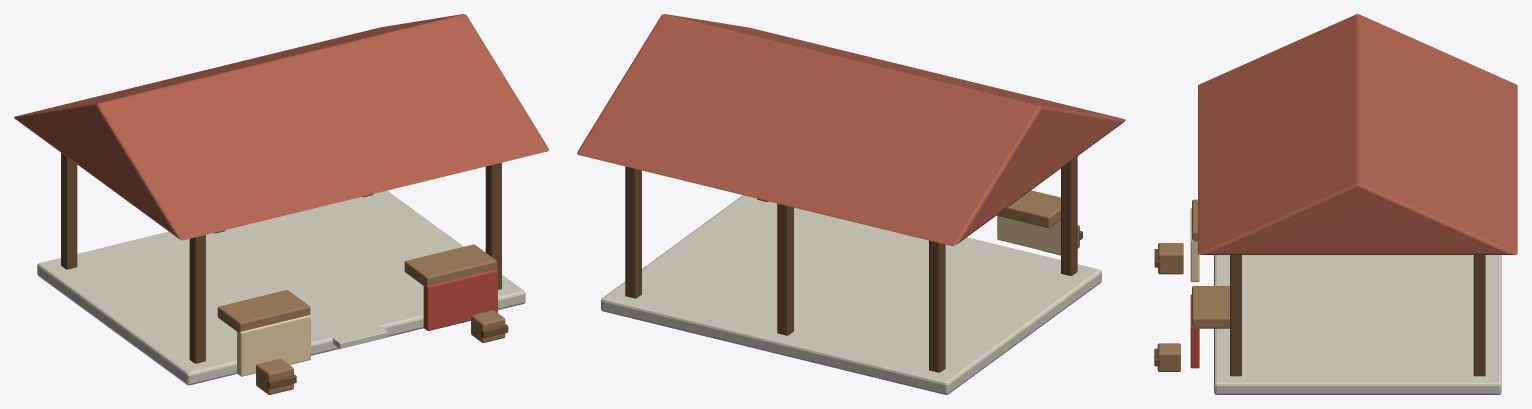
File: temperate-market-0.glb
3 renders of one model, left to right at view 1: azimuth 30°, elevation 25°; view 2: azimuth 150°, elevation 25°; view 3: azimuth 270°, elevation 25°, orthographic. The views are drawn at different scales.
Visible parts, largest first — view 1: Clay tiles, Cut limestone, Aged oak, Dark beams, Market red cloth, Market cream cloth; view 2: Clay tiles, Cut limestone, Dark beams, Aged oak, Market cream cloth; view 3: Clay tiles, Cut limestone, Aged oak, Dark beams, Market red cloth, Market cream cloth.
Part boxes in pixels (bbox=[...]): Clay tiles: bbox=[14, 14, 548, 240]; Cut limestone: bbox=[37, 190, 525, 385]; Aged oak: bbox=[217, 244, 505, 394]; Dark beams: bbox=[61, 153, 508, 389]; Market red cloth: bbox=[423, 269, 497, 330]; Market cream cloth: bbox=[237, 315, 310, 376]; Clay tiles: bbox=[577, 14, 1125, 246]; Cut limestone: bbox=[601, 195, 1101, 394]; Dark beams: bbox=[625, 156, 1082, 372]; Aged oak: bbox=[997, 190, 1079, 255]; Market cream cloth: bbox=[997, 216, 1060, 254]; Clay tiles: bbox=[1198, 14, 1517, 254]; Cut limestone: bbox=[1214, 255, 1501, 394]; Aged oak: bbox=[1157, 199, 1229, 371]; Dark beams: bbox=[1154, 249, 1485, 376]; Market red cloth: bbox=[1190, 294, 1199, 368]; Market cream cloth: bbox=[1190, 208, 1199, 281].
Bounding box in the file's own units: 5.36 × 3.19 × 4.8.
